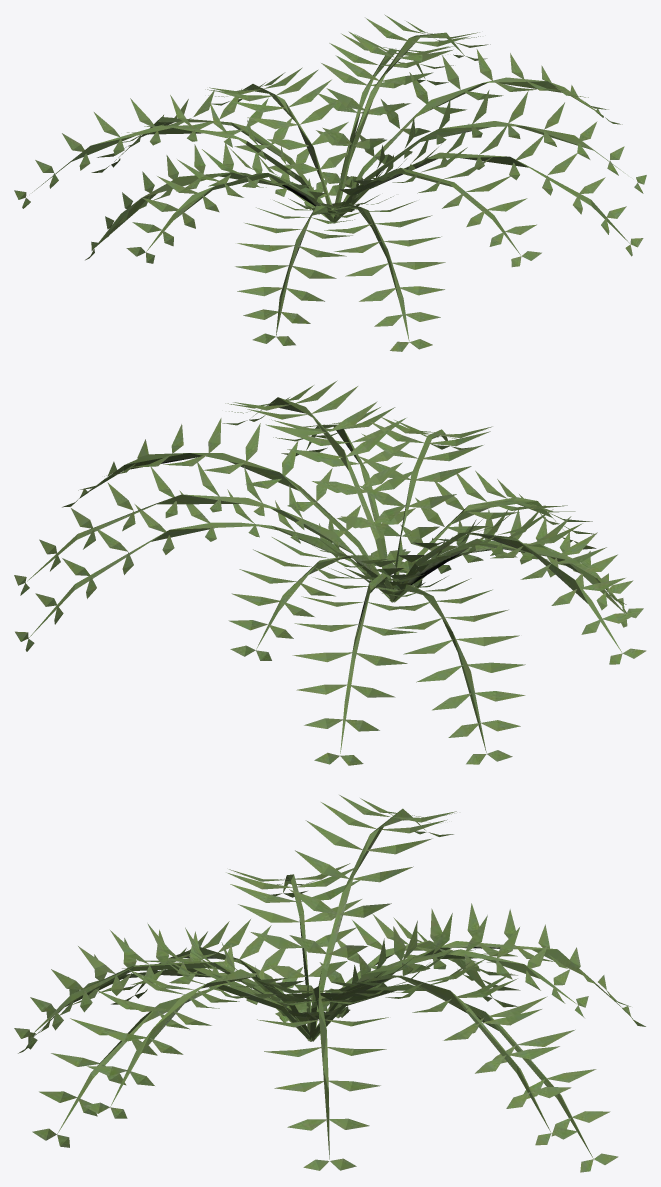
File: helecho.glb
3 views of the same model, one above another, from view 1: azimuth 30°, elevation 25°; view 2: azimuth 150°, elevation 25°; view 3: azimuth 270°, elevation 25° (orthographic). The views are drawn at different scales.
Visible parts, largest first — view 1: helecho_medio; view 2: helecho_medio; view 3: helecho_medio.
Boxes of the visible parts, x1,y1,x2,y2 form: helecho_medio: [14, 14, 646, 351]; helecho_medio: [14, 380, 646, 765]; helecho_medio: [14, 795, 645, 1172].
Bounding box in the file's own units: 2.01 × 0.5775 × 1.69.
Materials: 1 (1 with a texture image).
